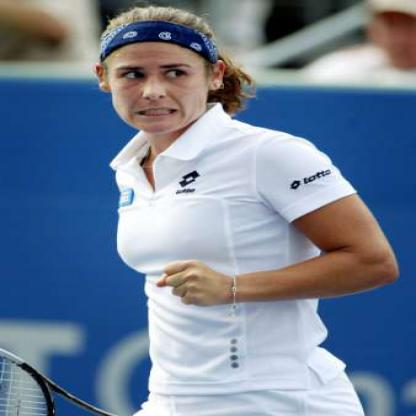face: (107, 9, 214, 136)
